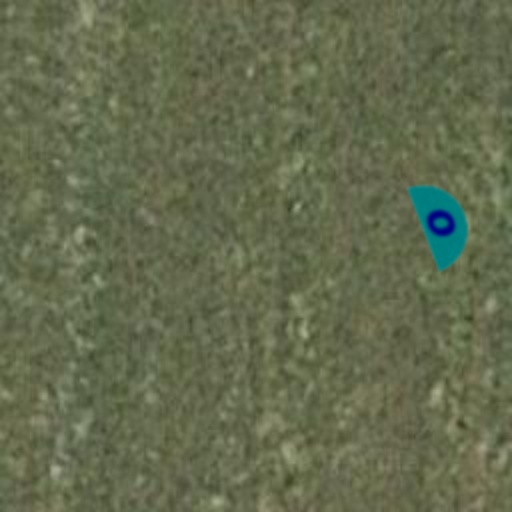semicircle: (386, 164, 502, 280)
